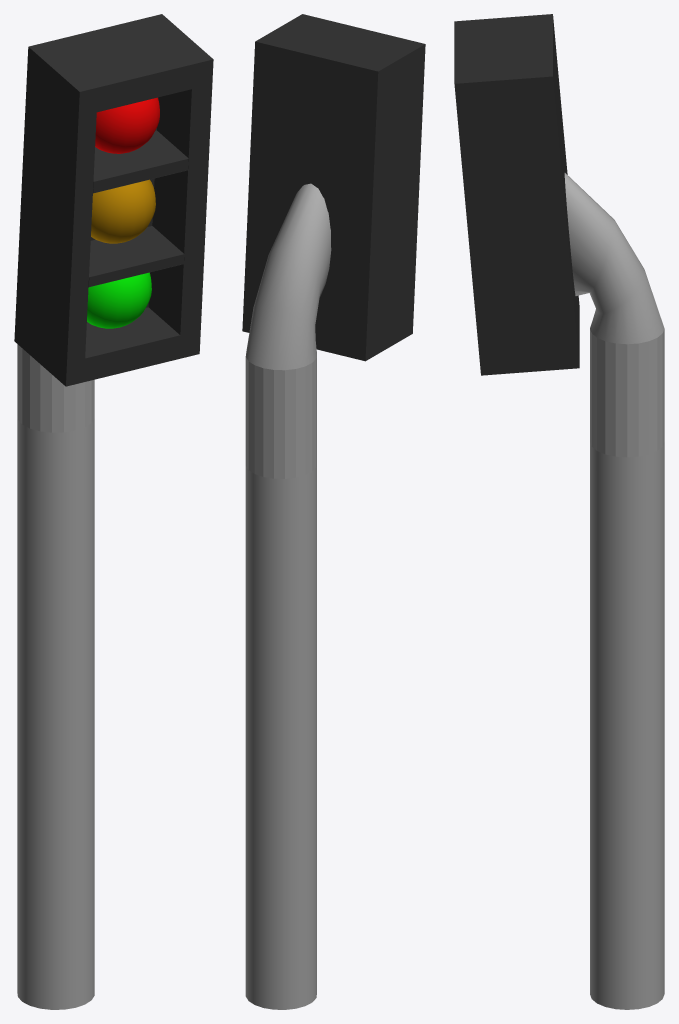
File: Traffic Light.fbx
3 views of the same model, side by side, from view 1: azimuth 30°, elevation 25°; view 2: azimuth 150°, elevation 25°; view 3: azimuth 270°, elevation 25° (orthographic). The views are drawn at different scales.
Parts seen in each view (by area): view 1: pCube2, pCylinder1; view 2: pCylinder1, pCube2; view 3: pCylinder1, pCube2.
Boxes of the visible parts, x1,y1,x2,y2 form: pCube2: [14, 14, 213, 386]; pCylinder1: [17, 344, 94, 1009]; pCylinder1: [245, 183, 331, 1009]; pCube2: [242, 14, 425, 361]; pCylinder1: [564, 173, 664, 1009]; pCube2: [454, 14, 579, 375].
Size of the model in its own units: 1.98 by 14.03 by 2.81.
